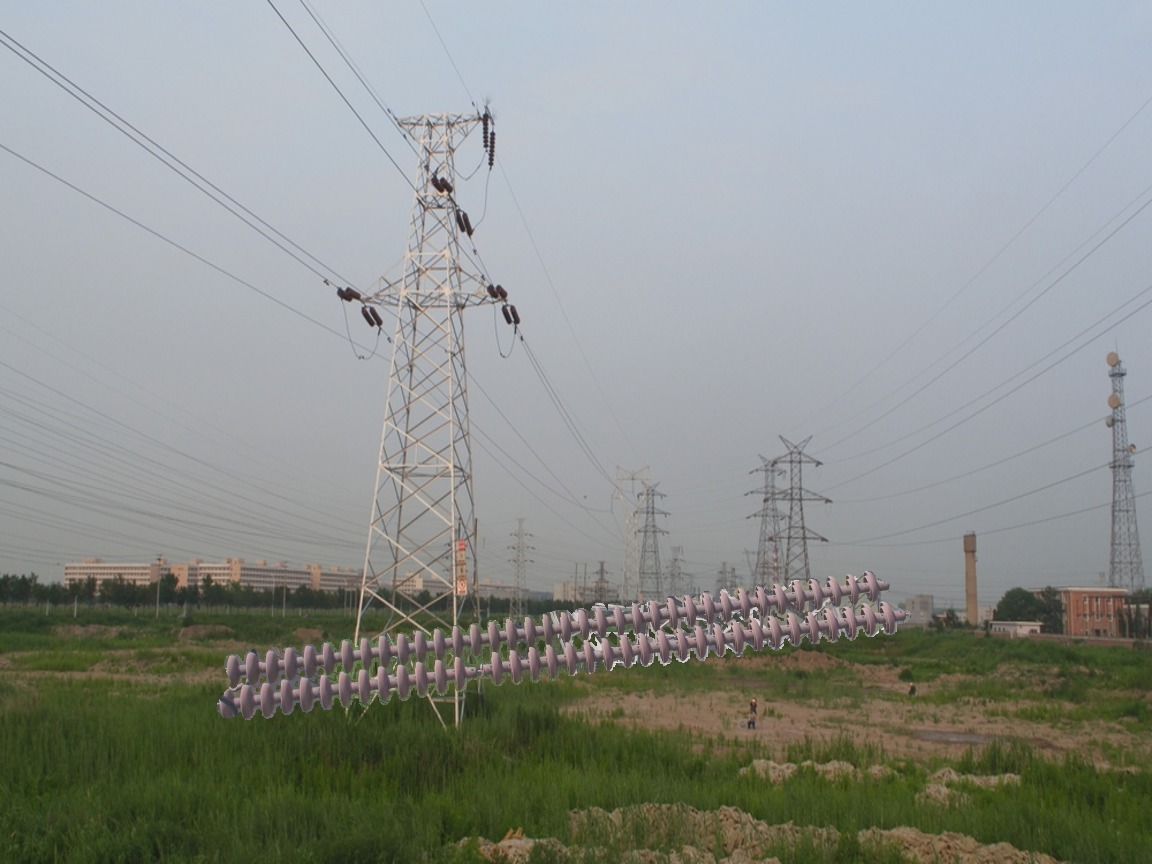defect: (445, 645, 511, 692)
